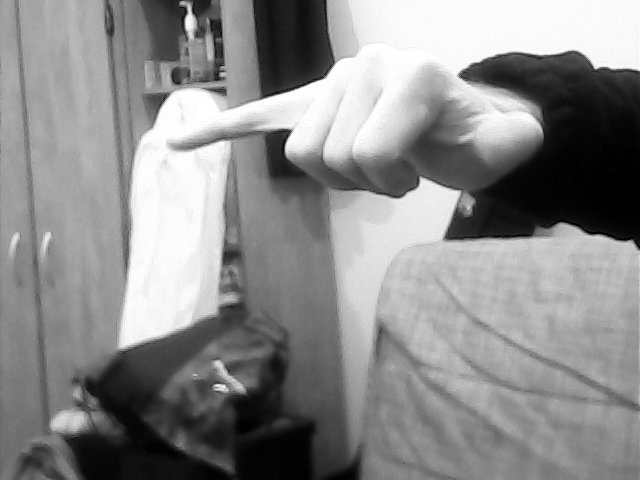aloha: (159, 45, 549, 205)
